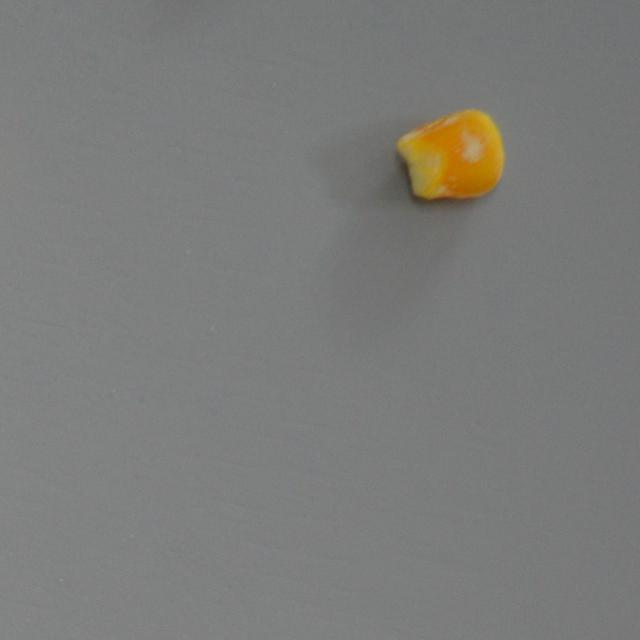pelicula: (396, 106, 504, 201)
